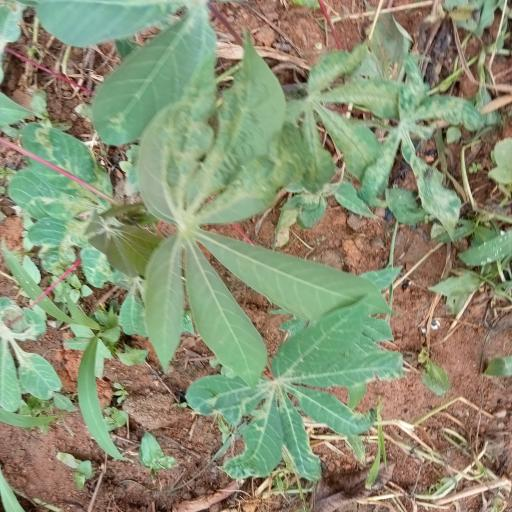Cassava_Mosaic: (144, 114, 363, 352), (204, 322, 392, 485)
